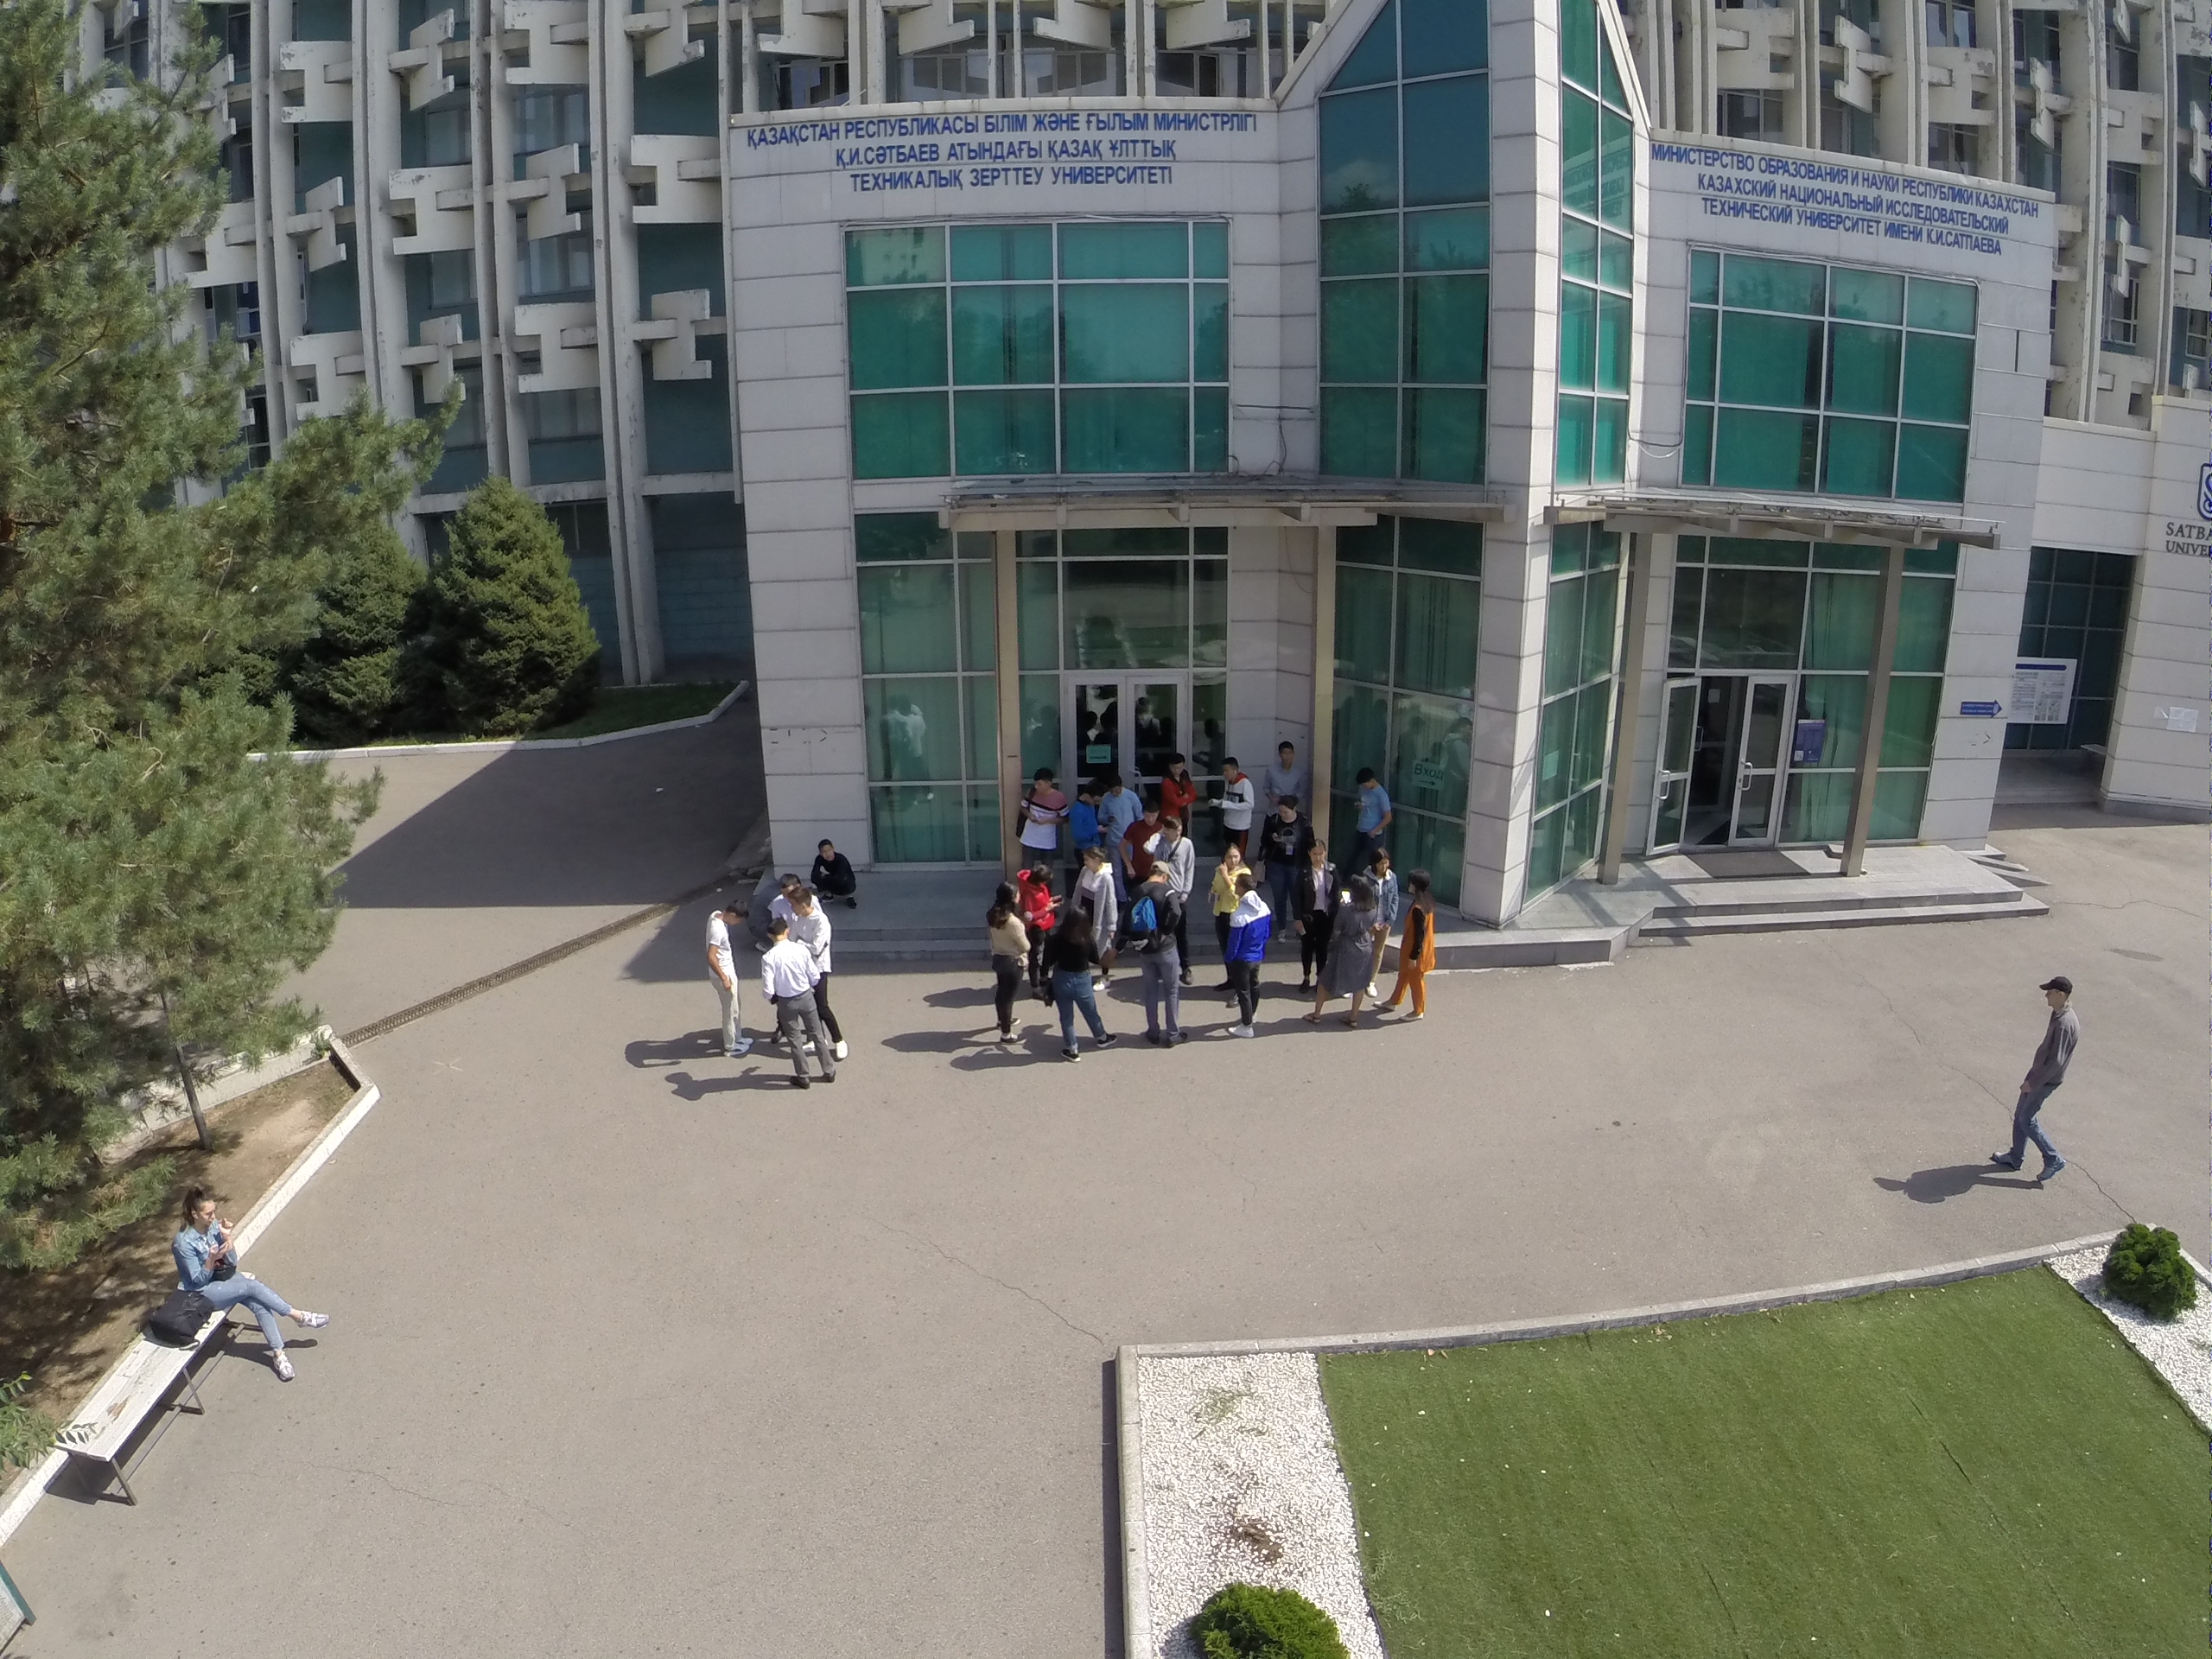person: (165, 1182, 326, 1393), (1976, 969, 2089, 1191), (761, 918, 837, 1103), (1046, 891, 1113, 1071), (1311, 873, 1377, 1039), (1136, 864, 1190, 1048), (1387, 861, 1438, 1027), (1219, 872, 1270, 1043), (706, 891, 755, 1058), (1290, 836, 1344, 985), (979, 880, 1025, 1054), (1258, 786, 1306, 942), (1361, 849, 1396, 1005), (1020, 860, 1057, 1007), (1015, 758, 1068, 866), (1065, 770, 1105, 871), (1212, 751, 1254, 851), (814, 832, 861, 907), (1158, 747, 1201, 825), (1147, 817, 1194, 885), (1209, 842, 1249, 920), (1353, 768, 1394, 848), (1100, 778, 1143, 843), (788, 880, 824, 952), (1265, 738, 1303, 798)
